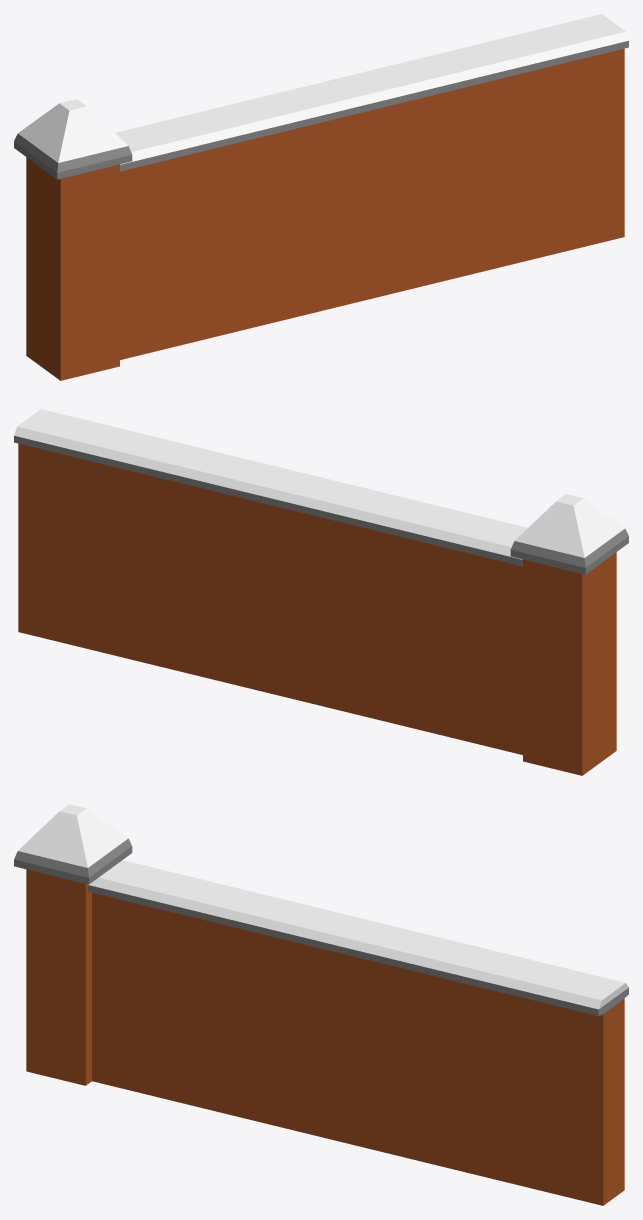
File: Wall.FBX
3 views of the same model, one above another, from view 1: azimuth 30°, elevation 25°; view 2: azimuth 150°, elevation 25°; view 3: azimuth 330°, elevation 25° (orthographic).
Visible parts, largest first — view 1: Box001; view 2: Box001; view 3: Box001.
Boxes of the visible parts, <box> form: Box001: <box>14,14,628,380</box>; Box001: <box>14,409,628,775</box>; Box001: <box>14,804,628,1205</box>.
Bounding box in the file's own units: 147 × 62.07 × 19.
